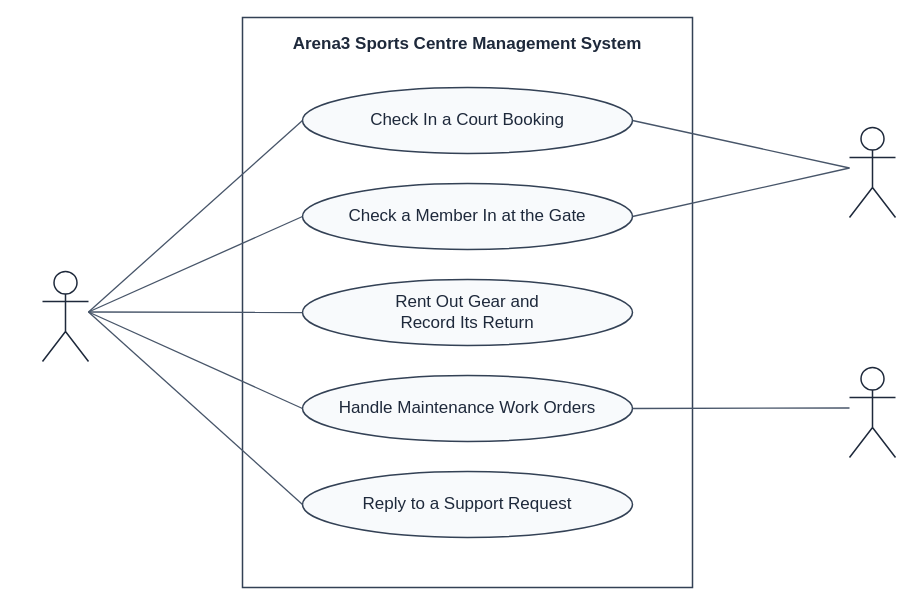
Some shapes in this 922 by 606 pixel diagram are drawn without their labels. Here are the shapes that lost their labels. From the top down, the centre of each, then its label:
point (872, 172): Member
point (65, 316): Receptionist
point (872, 412): Manager
